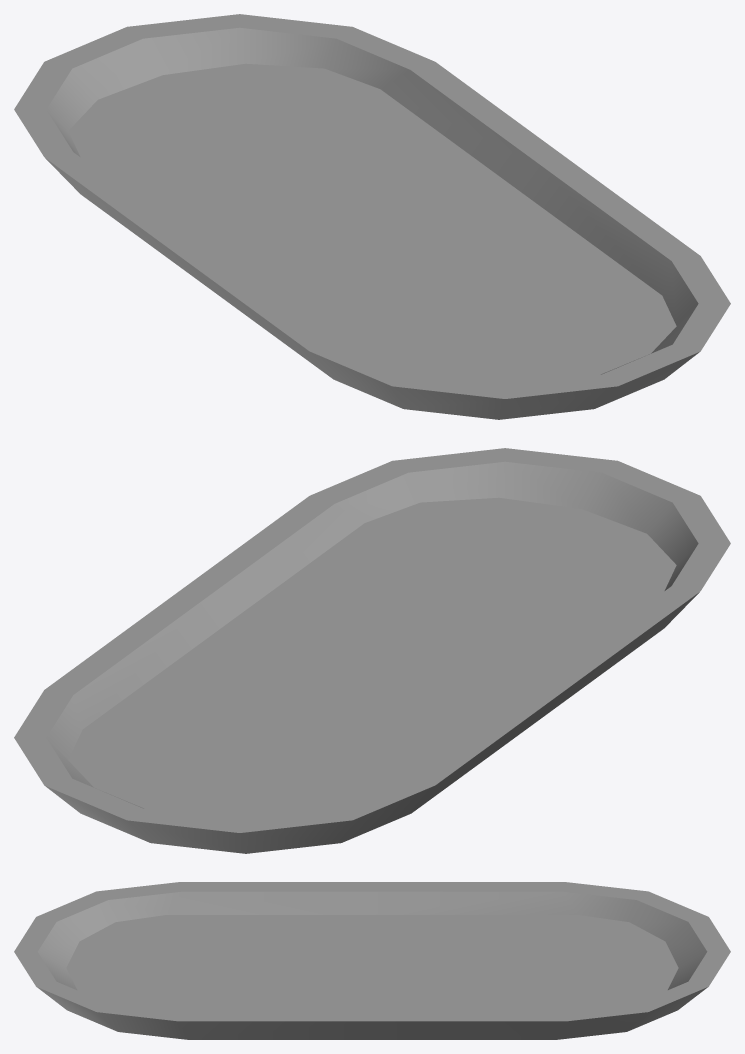
File: CookiePlate_01.fbx
3 renders of one model, top to bottom at view 1: azimuth 30°, elevation 25°; view 2: azimuth 150°, elevation 25°; view 3: azimuth 270°, elevation 25°, orthographic. The views are drawn at different scales.
Visible parts, largest first — view 1: CookiePlate_01; view 2: CookiePlate_01; view 3: CookiePlate_01.
Boxes of the visible parts, x1,y1,x2,y2 form: CookiePlate_01: (14,14,730,419); CookiePlate_01: (14,448,730,853); CookiePlate_01: (14,882,730,1039).
Size of the model in its own units: 0.2935 by 0.0287 by 0.6382.
